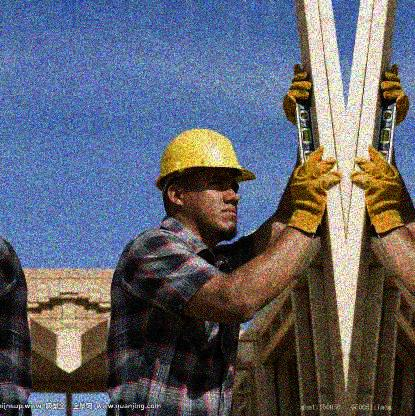helmet: (153, 128, 258, 239)
